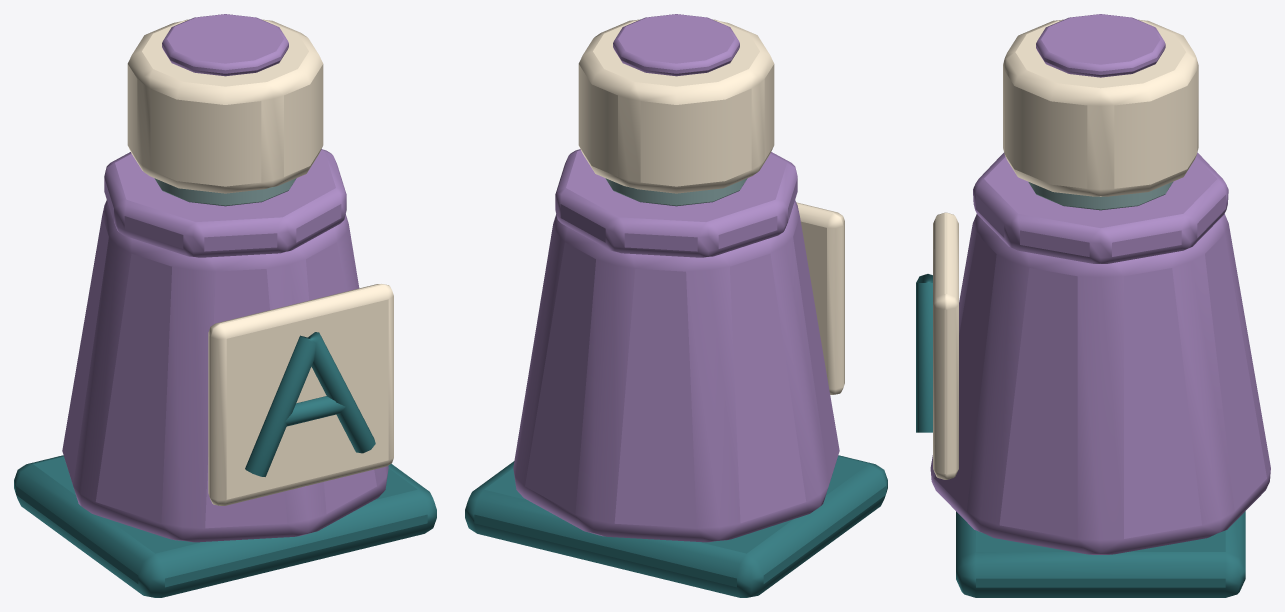
Rendered from antidote-bottle.glb.
The picture shows the model from 3 angles, left to right: view 1: azimuth 30°, elevation 25°; view 2: azimuth 150°, elevation 25°; view 3: azimuth 270°, elevation 25°; orthographic projection. The views are drawn at different scales.
Visible parts, largest first — view 1: LavenderEnamel, CeramicCream, DeepTeal, BrushedMetal; view 2: LavenderEnamel, CeramicCream, DeepTeal, BrushedMetal; view 3: LavenderEnamel, CeramicCream, DeepTeal, BrushedMetal.
Boxes of the visible parts, x1,y1,x2,y2 form: LavenderEnamel: (62, 14, 388, 542); CeramicCream: (127, 19, 393, 505); DeepTeal: (14, 332, 436, 597); BrushedMetal: (154, 178, 296, 206); LavenderEnamel: (513, 14, 839, 542); CeramicCream: (578, 19, 844, 394); DeepTeal: (465, 455, 887, 597); BrushedMetal: (605, 178, 747, 206); LavenderEnamel: (930, 14, 1270, 554); CeramicCream: (933, 19, 1198, 479); DeepTeal: (916, 274, 1245, 597); BrushedMetal: (1028, 182, 1172, 210).
Bounding box in the file's own units: 0.35 × 0.544 × 0.3554.
